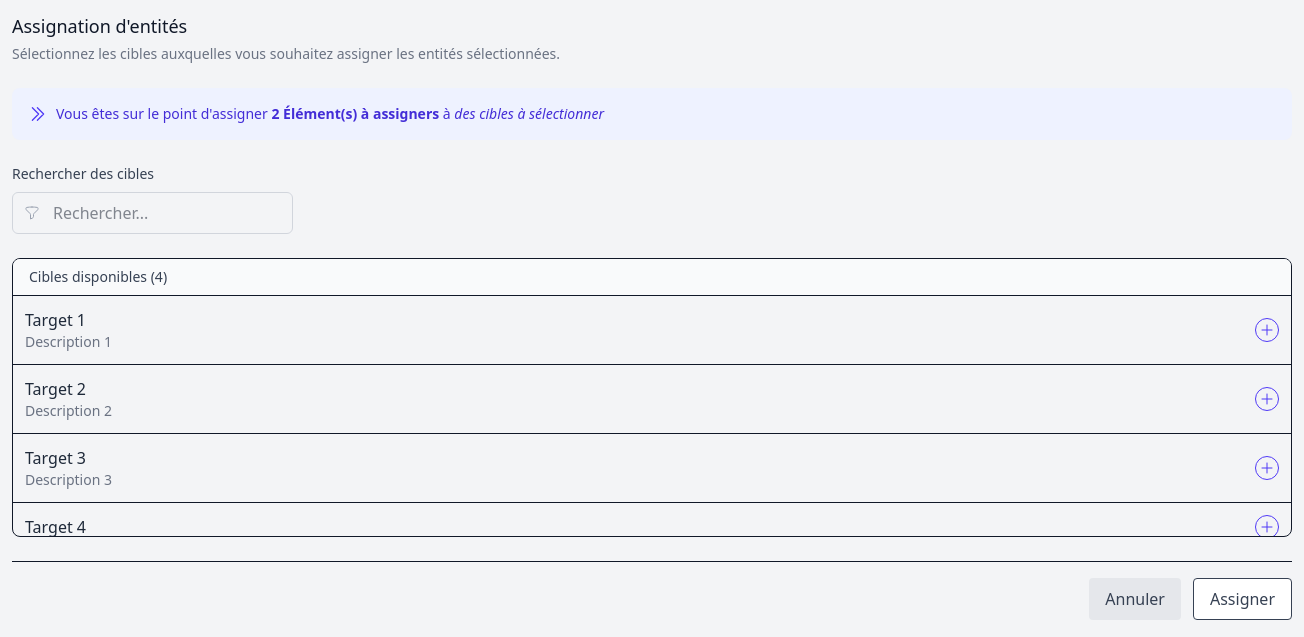
GenericAssignmentForm › allows filtering targets by search term
// Entrer un terme de recherche
Step 1. Type "Target 1" into the field with placeholder "Rechercher..." → (152,213), box [12, 192, 293, 234]
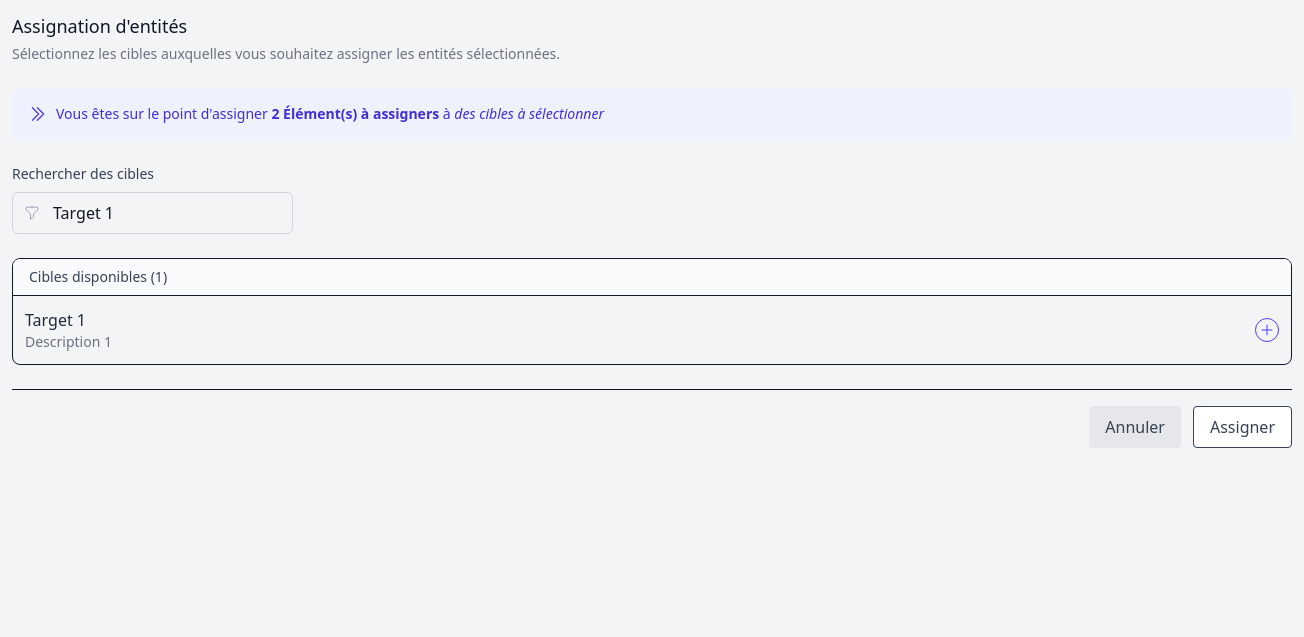
Expected: the text "Target 1" is shown, [25, 309, 86, 331]
Expected: the text "Target 2" is gone
Expected: the text "Target 3" is gone
